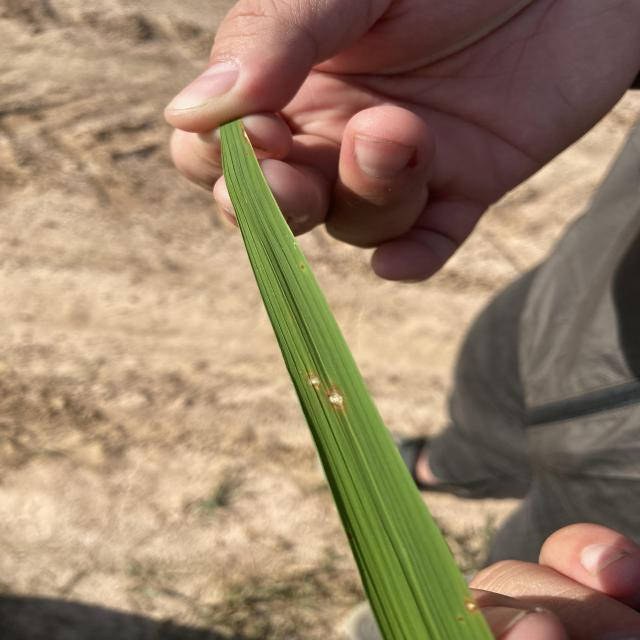Dao on: (328, 382, 343, 408), (465, 597, 478, 613), (308, 372, 320, 388), (243, 128, 249, 141)
